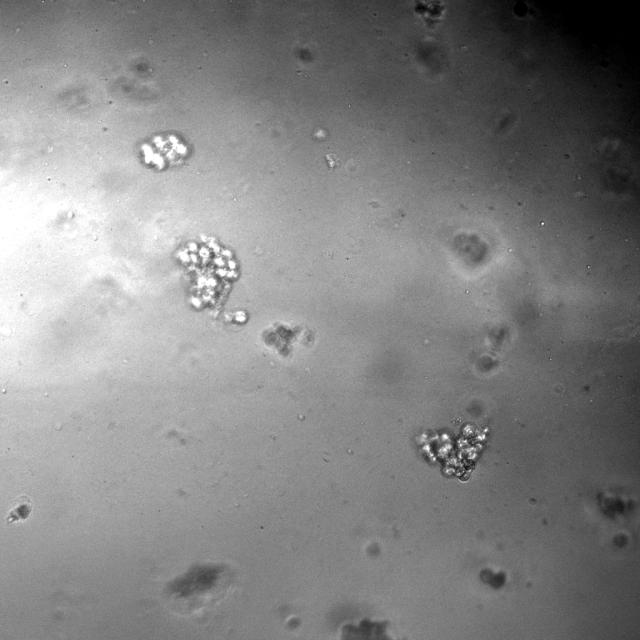organoid: (176, 235, 239, 314), (416, 422, 488, 481), (139, 132, 192, 170), (261, 322, 316, 357), (341, 618, 392, 639), (414, 0, 446, 26), (224, 309, 249, 326)
